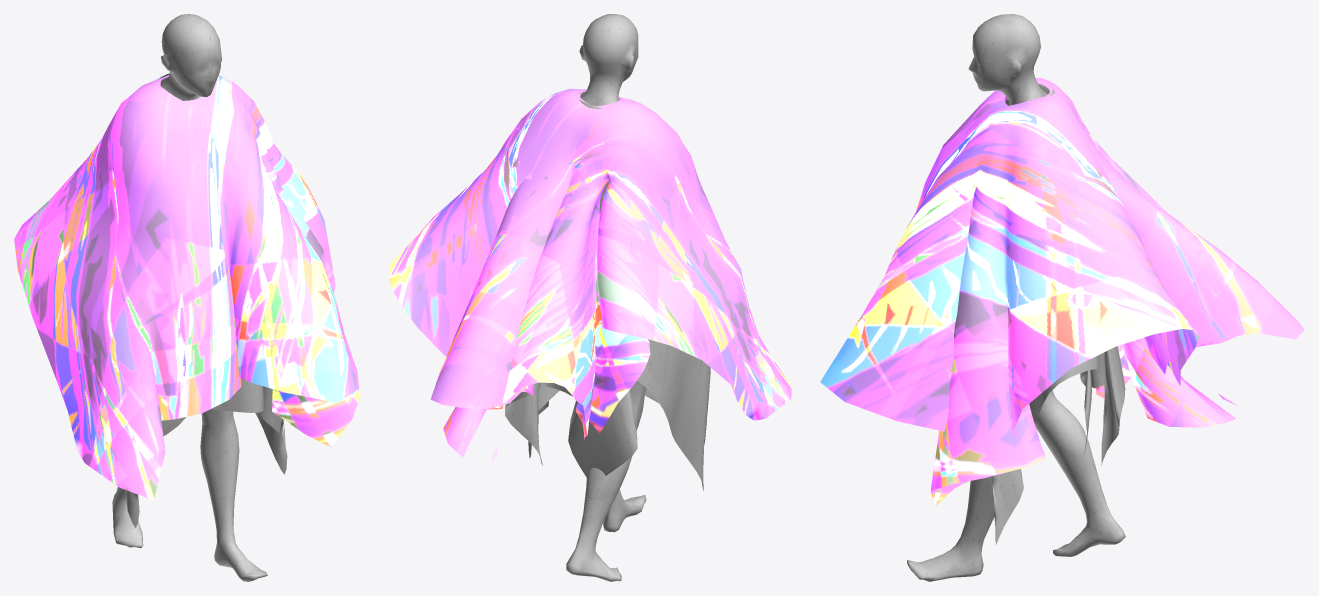
File: SM_Manequin_Orange.fbx
3 views of the same model, side by side, from view 1: azimuth 30°, elevation 25°; view 2: azimuth 150°, elevation 25°; view 3: azimuth 270°, elevation 25° (orthographic). The views are drawn at different scales.
Visible parts, largest first — view 1: SM_Manequin_Orange_LOD0; view 2: SM_Manequin_Orange_LOD0; view 3: SM_Manequin_Orange_LOD0.
Boxes of the visible parts, left/top/right/bottom form: SM_Manequin_Orange_LOD0: left=14, top=14, right=360, bottom=581; SM_Manequin_Orange_LOD0: left=389, top=14, right=791, bottom=581; SM_Manequin_Orange_LOD0: left=820, top=14, right=1304, bottom=581.
Size of the model in its own units: 102 by 141 by 178.
